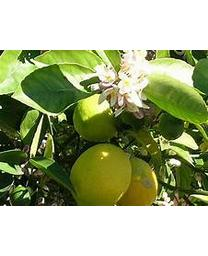lemon: (70, 144, 133, 205), (74, 93, 113, 137)
